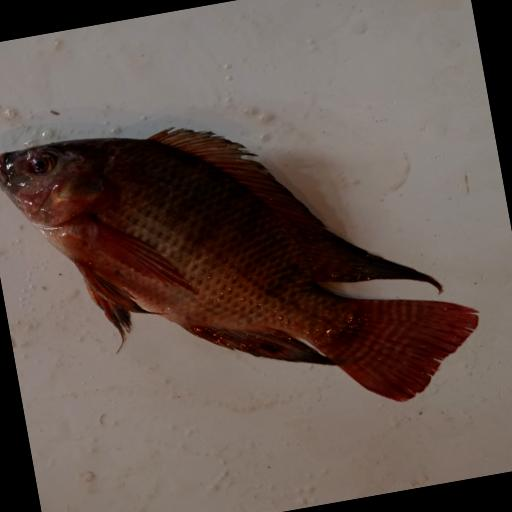Tilapia: (0, 75, 491, 465)
